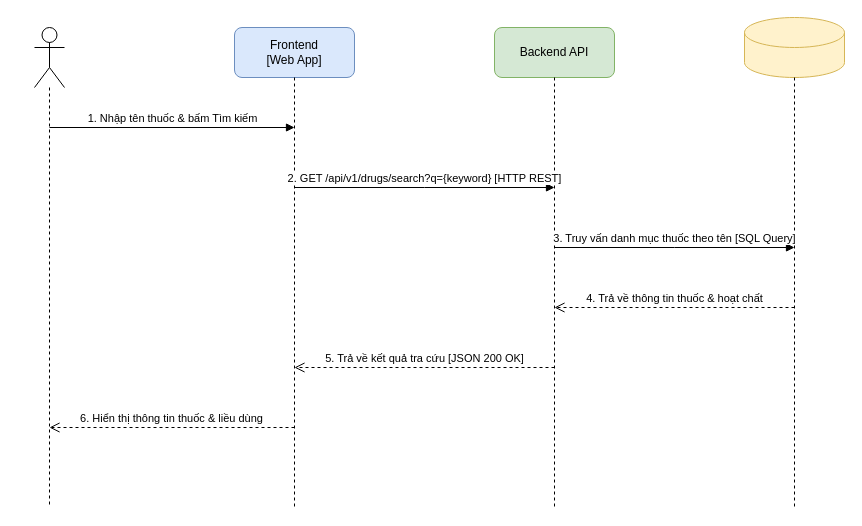
Some shapes in this 862 by 526 pixel diagram are drawn without their labels. The centre of each missing label's shape, as x and y in pixels:
"Database" belongs at (x=794, y=47).
"Người dùng" belongs at (x=49, y=57).
